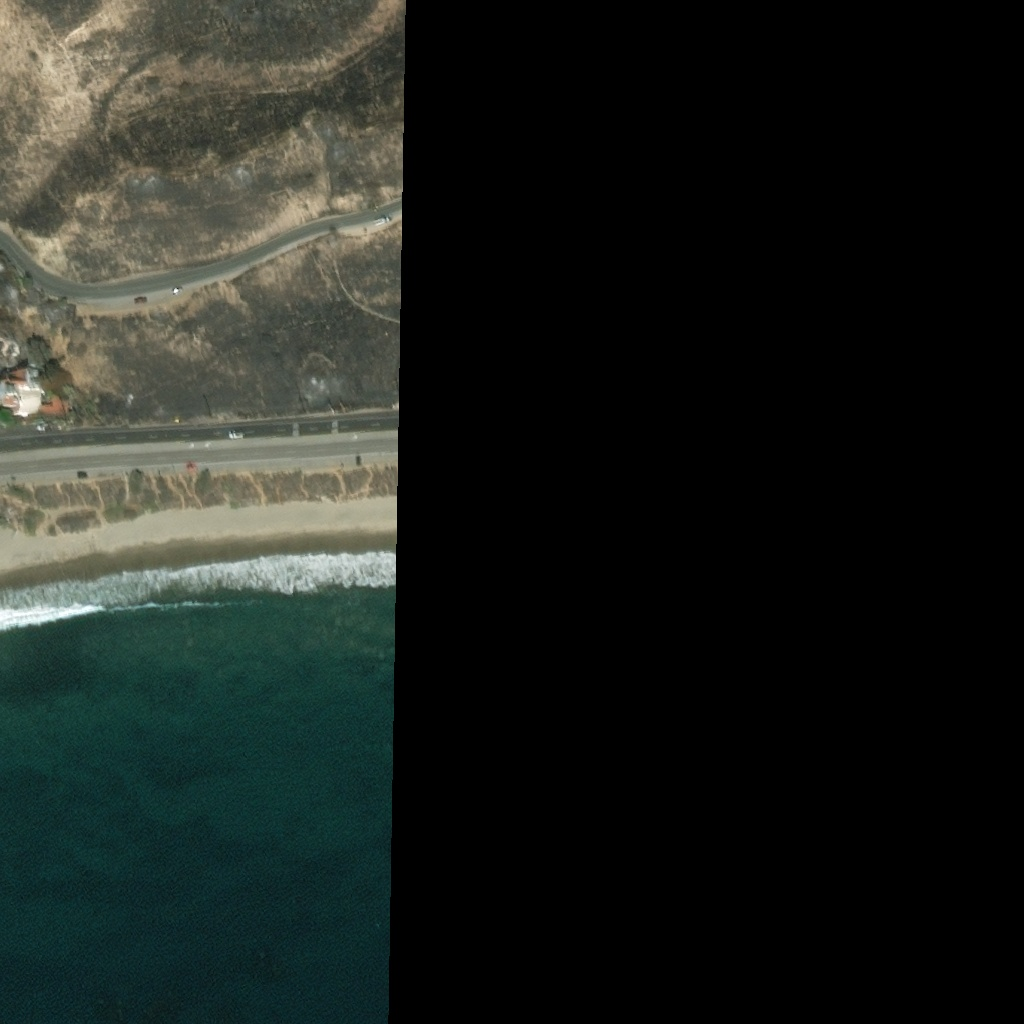0 no-damage: (0, 359, 68, 417)
4 un-classified: (0, 253, 9, 272), (1, 343, 12, 354)
